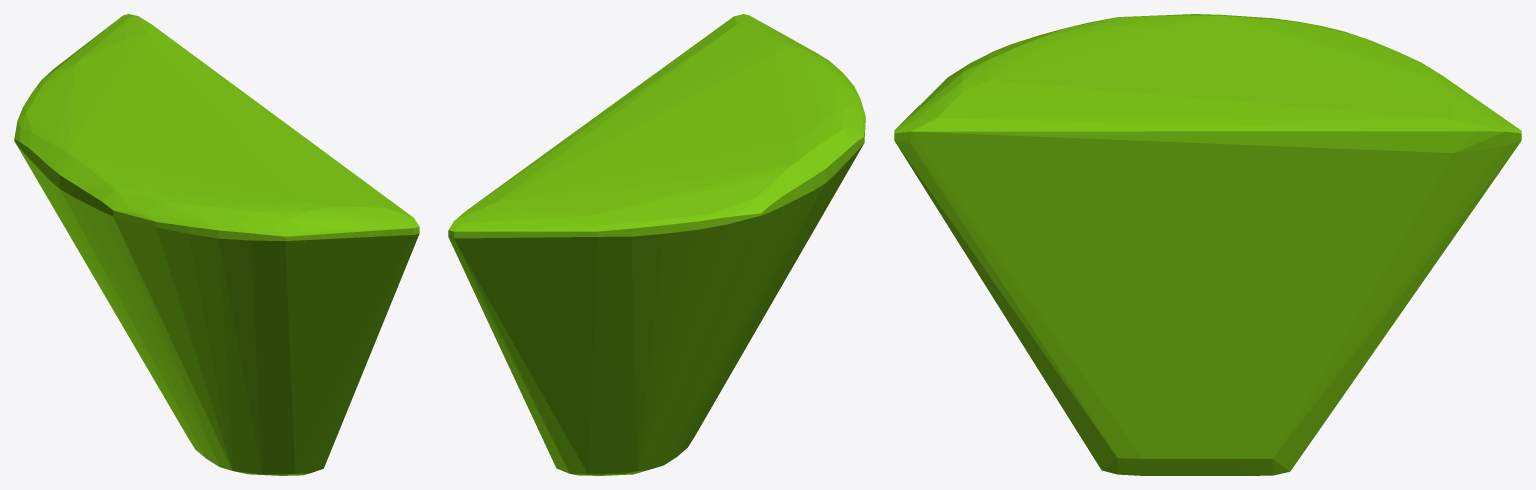
File: left-hip-yaw-0_part_4.obj
3 renders of one model, left to right at view 1: azimuth 30°, elevation 25°; view 2: azimuth 150°, elevation 25°; view 3: azimuth 270°, elevation 25°, orthographic. The views are drawn at different scales.
Size of the model in its own units: 0.0154 by 0.0217 by 0.0339.
